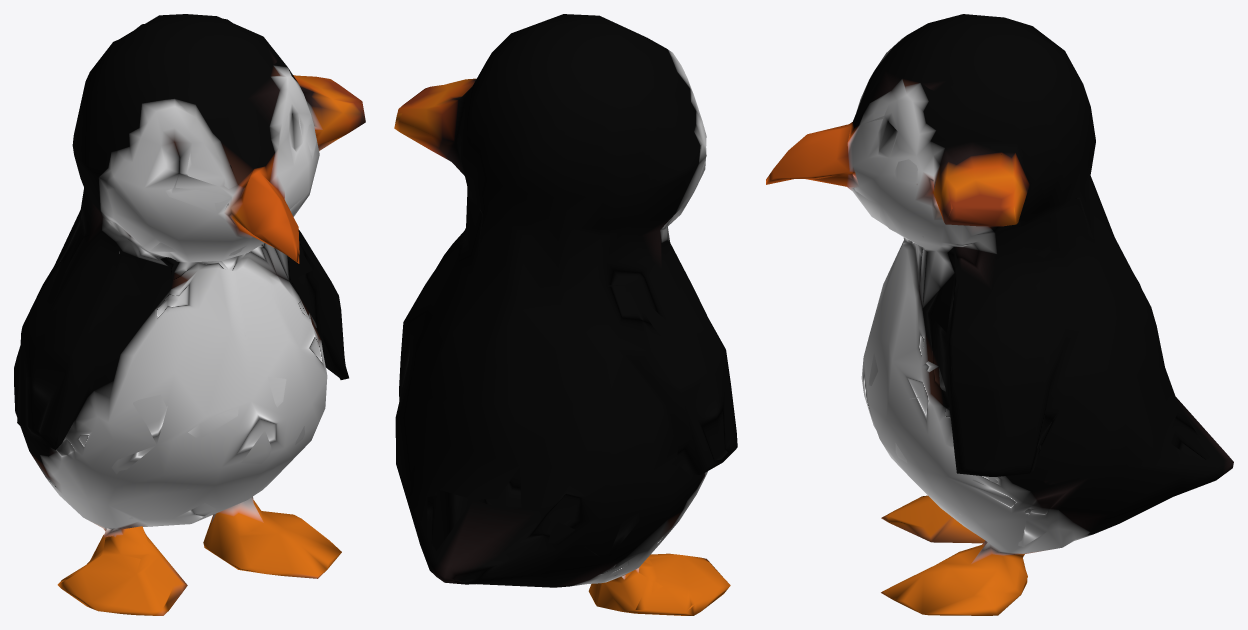
The model's file is gen3d-puffin-lod0.glb.
3 renders of one model, left to right at view 1: azimuth 30°, elevation 25°; view 2: azimuth 150°, elevation 25°; view 3: azimuth 270°, elevation 25°, orthographic. The views are drawn at different scales.
Parts seen in each view (by area): view 1: part_0; view 2: part_0; view 3: part_0.
Part boxes in pixels (bbox=[...]): part_0: bbox=[14, 14, 365, 615]; part_0: bbox=[394, 14, 737, 615]; part_0: bbox=[766, 14, 1233, 615].
Size of the model in its own units: 0.606 by 1 by 0.7964.
